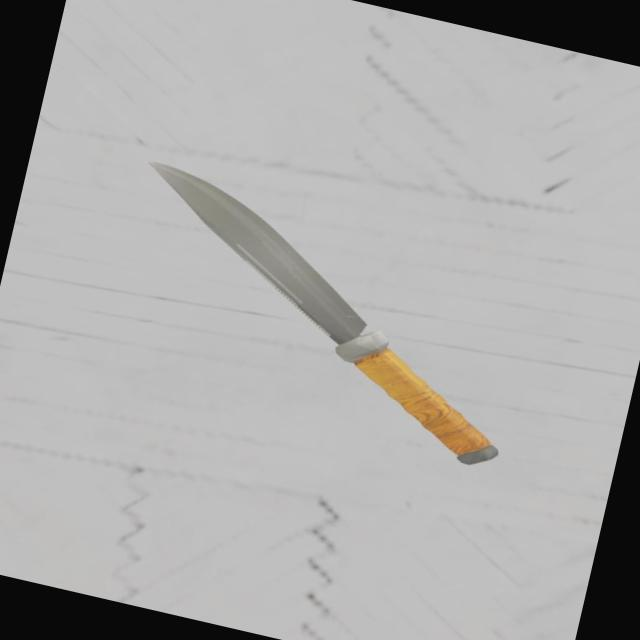knife: (328, 332, 508, 468)
